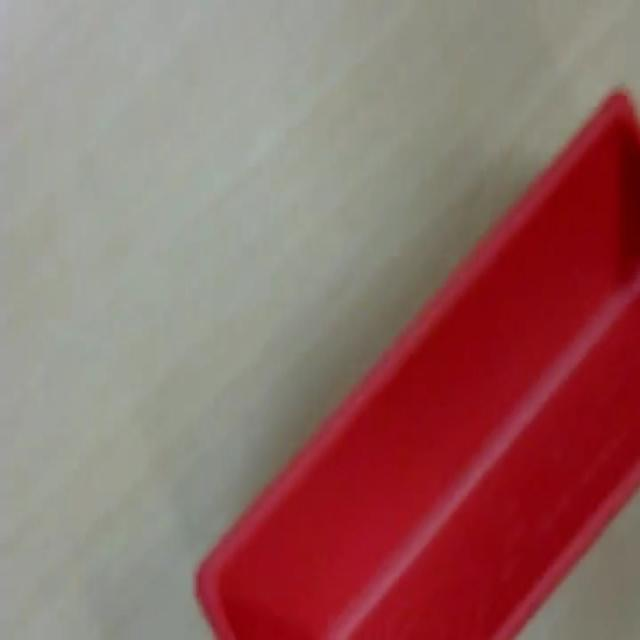red_block: (193, 85, 638, 638)
